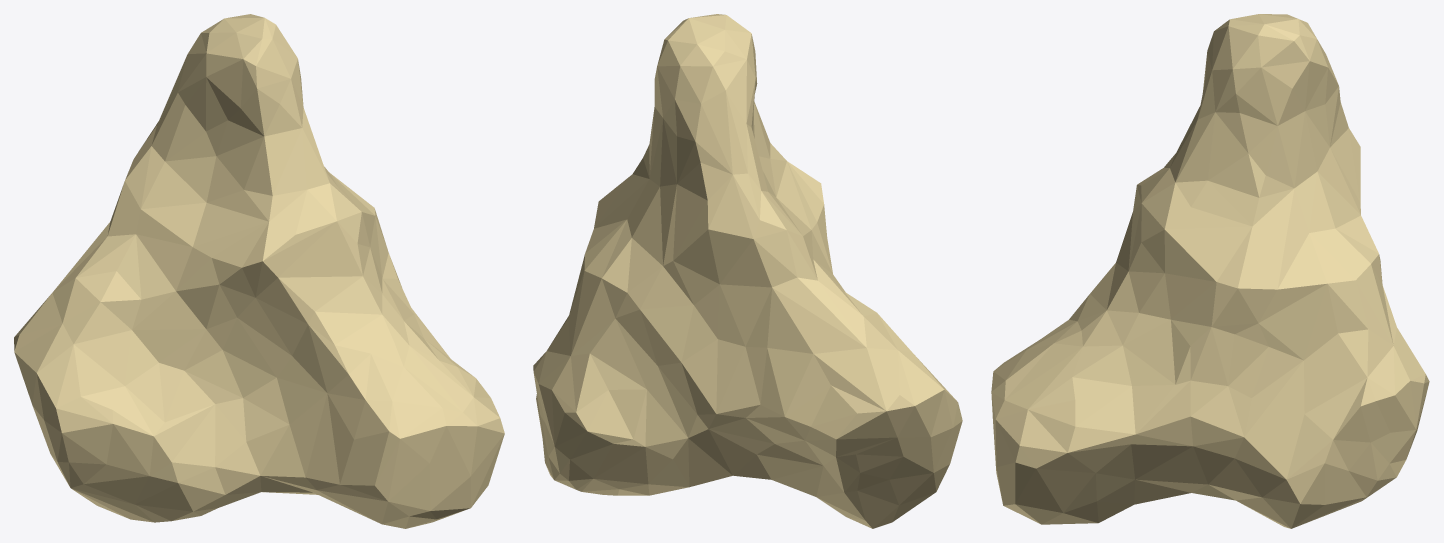
Rendered from Asteroid (20).fbx.
3 renders of one model, left to right at view 1: azimuth 30°, elevation 25°; view 2: azimuth 150°, elevation 25°; view 3: azimuth 270°, elevation 25°, orthographic. The views are drawn at different scales.
Visible parts, largest first — view 1: Asteroid142; view 2: Asteroid142; view 3: Asteroid142.
Boxes of the visible parts, box(x1,y1,x2,y2) form: Asteroid142: box(14, 14, 504, 528); Asteroid142: box(533, 14, 962, 528); Asteroid142: box(991, 14, 1429, 528).
Size of the model in its own units: 168 by 196 by 166.
